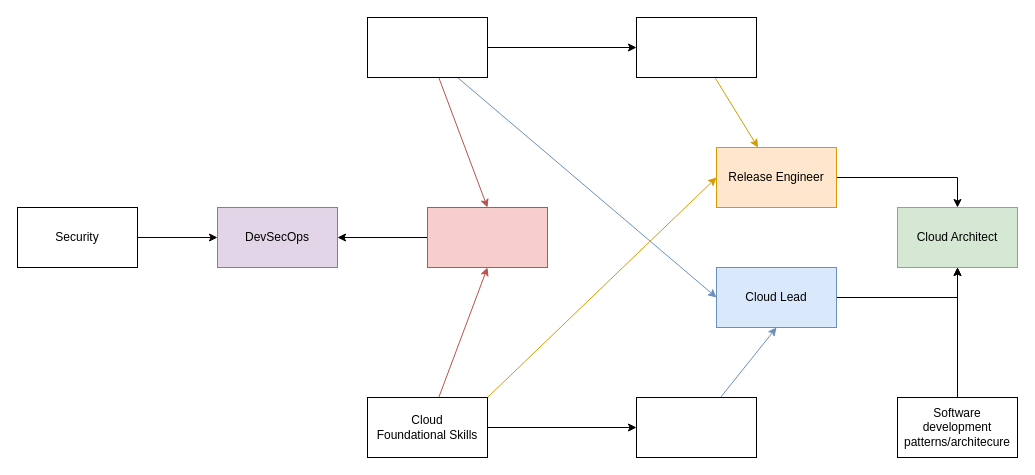
This 1035x475 diagram has some shape labels left out. Here are the shapes that lost their labels. From the top down, the centre of each, then its label:
At point (427, 47): "CI/CD Foundational Skills".
At point (696, 47): "CI/CD Advanced Skills".
At point (487, 237): "DevOps Engineer".
At point (696, 427): "Cloud Advanced Skills".
